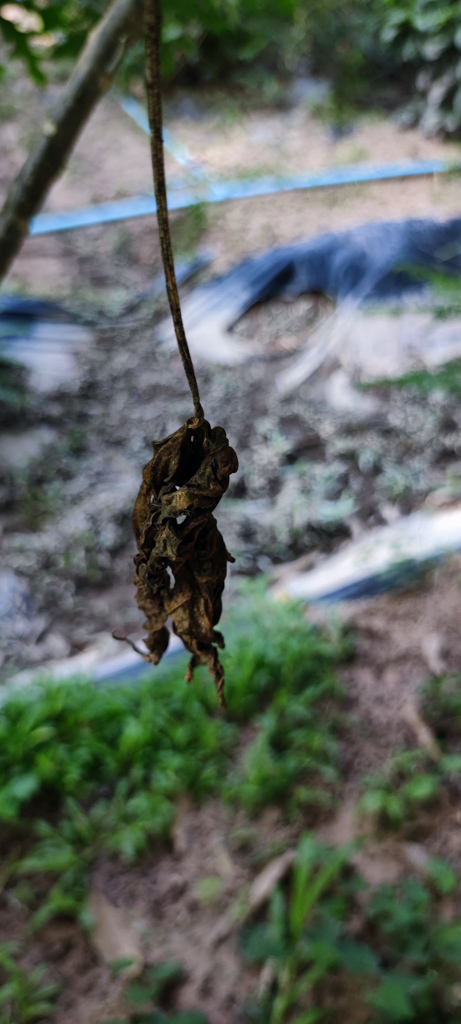Alternaria brassicicola: (120, 417, 264, 702)
